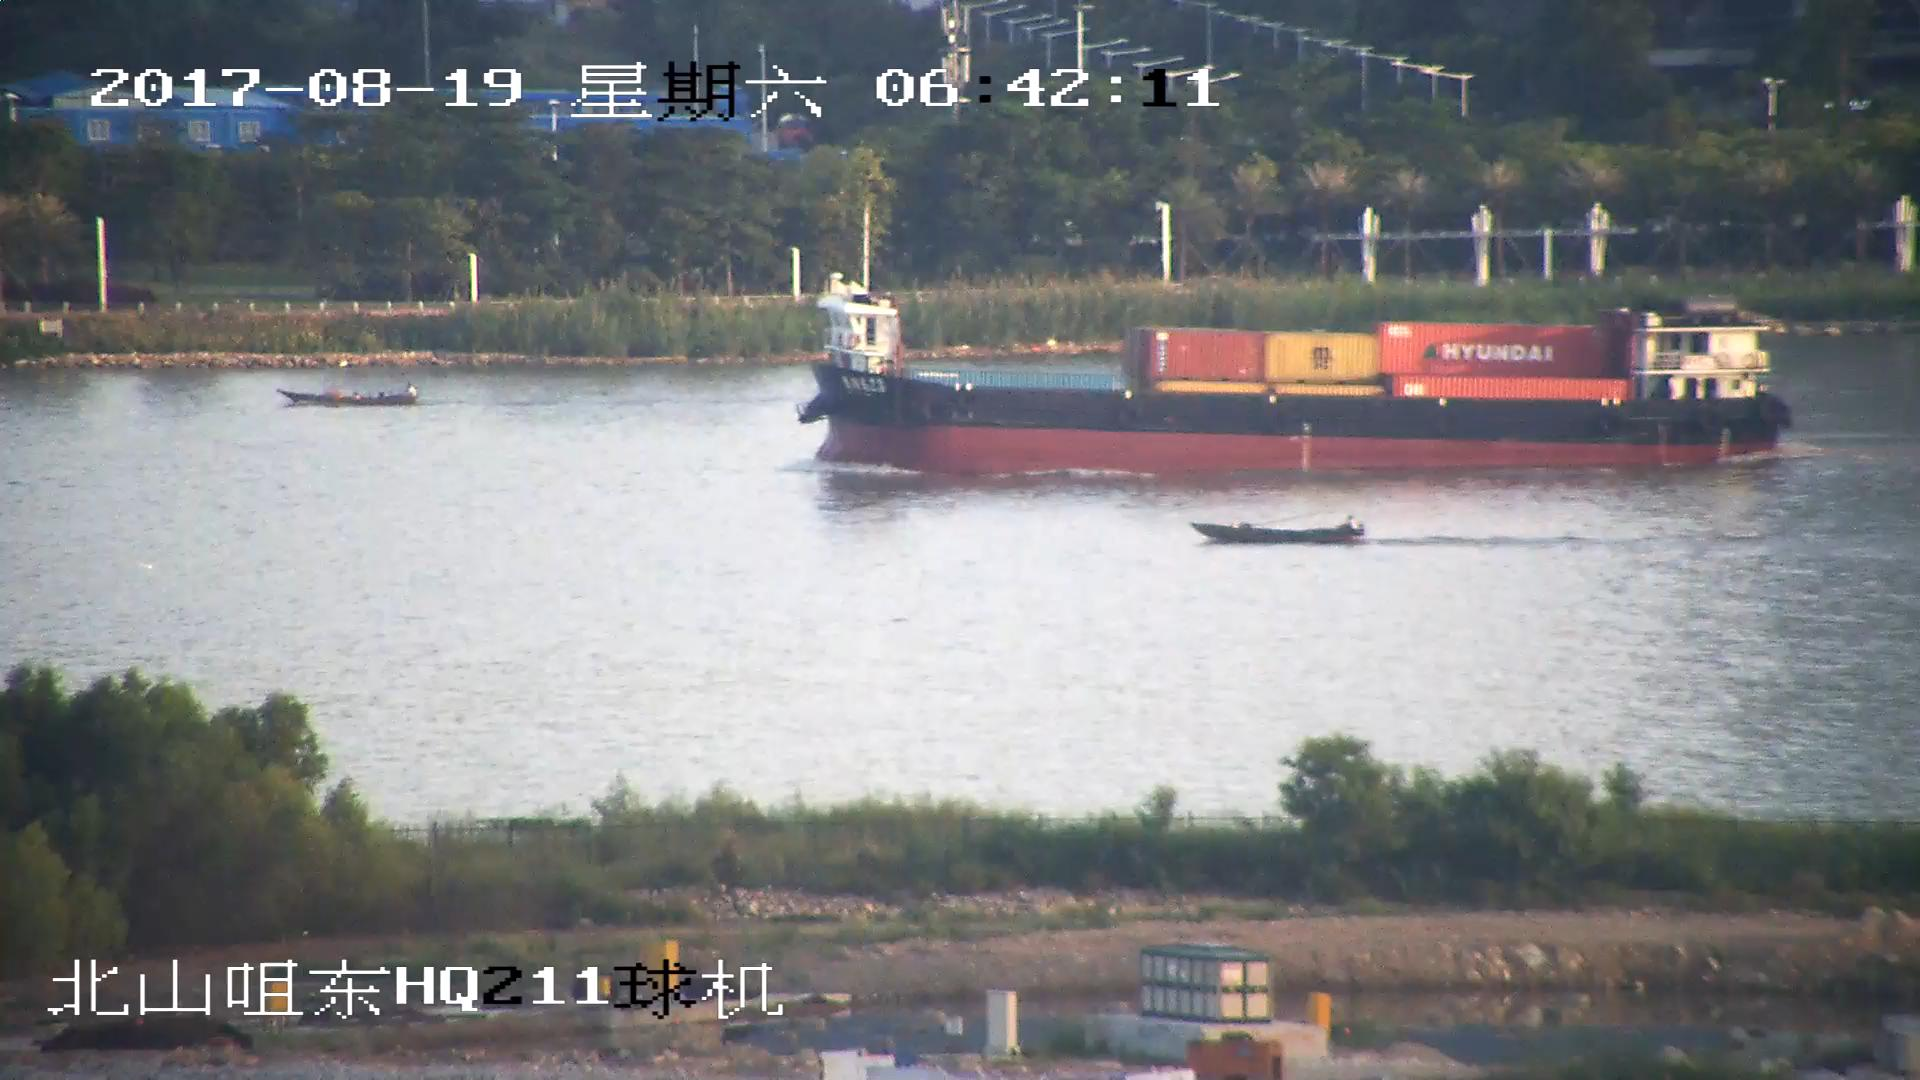container ship: (793, 267, 1797, 475)
fishing boat: (1188, 516, 1371, 548), (278, 382, 422, 407)
